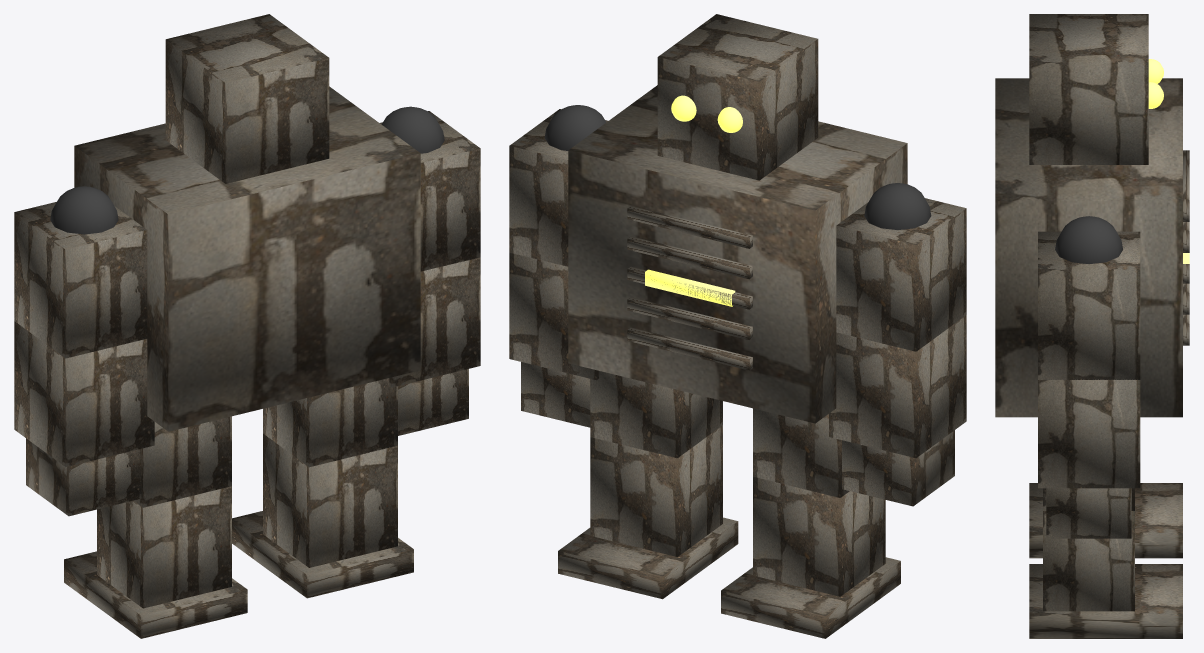
File: bone-golem.glb
The picture shows the model from 3 angles, left to right: view 1: azimuth 30°, elevation 25°; view 2: azimuth 150°, elevation 25°; view 3: azimuth 270°, elevation 25°; orthographic projection. The views are drawn at different scales.
Visible parts, largest first — view 1: Torso, Head, UpperArm, Forearm, Shin.001, Shin, Thigh.001, UpperArm.001, Forearm.001, Thigh, Foot, Foot.001 (+4 smaller); view 2: Torso, Head, UpperArm, Forearm, Shin.001, Shin, Thigh.001, UpperArm.001, Foot.001, Foot, Forearm.001, Thigh (+10 smaller); view 3: Torso, Head, UpperArm.001, Forearm.001, Foot.001, Shin.001, Foot, Fist.001, Shoulder.001, Rib4, Eye.001, Eye.
Boxes of the visible parts, x1,y1,x2,y2 form: Torso: (74,86,420,431); Head: (165,14,329,183); UpperArm: (14,202,147,358); Forearm: (14,321,154,466); Shin.001: (263,433,397,567); Shin: (97,486,231,608); Thigh.001: (263,378,397,467); UpperArm.001: (380,111,480,271); Forearm.001: (389,257,480,387); Thigh: (134,416,231,507); Foot: (64,551,247,638); Foot.001: (232,511,413,598); Torso: (568,85,907,423); Head: (657,14,818,180); UpperArm: (836,198,966,351); Forearm: (829,315,966,457); Shin.001: (590,425,722,556); Shin: (753,476,885,596); Thigh.001: (590,371,722,458); UpperArm.001: (509,109,607,266); Foot.001: (558,517,738,599); Foot: (721,557,900,638); Forearm.001: (509,252,598,380); Thigh: (753,408,849,497); Torso: (995,78,1182,417); Head: (1029,14,1148,164); UpperArm.001: (1038,231,1140,379); Forearm.001: (1038,379,1140,488); Foot.001: (1029,564,1182,638); Shin.001: (1043,511,1134,611); Foot: (1029,483,1182,558); Fist.001: (1046,488,1131,538); Shoulder.001: (1055,216,1122,264); Rib4: (1183,150,1189,221); Eye.001: (1148,82,1163,108); Eye: (1148,59,1163,83).
Bounding box in the file's own units: 0.8116 × 1 × 0.3304.
8 materials, 6 textured.
